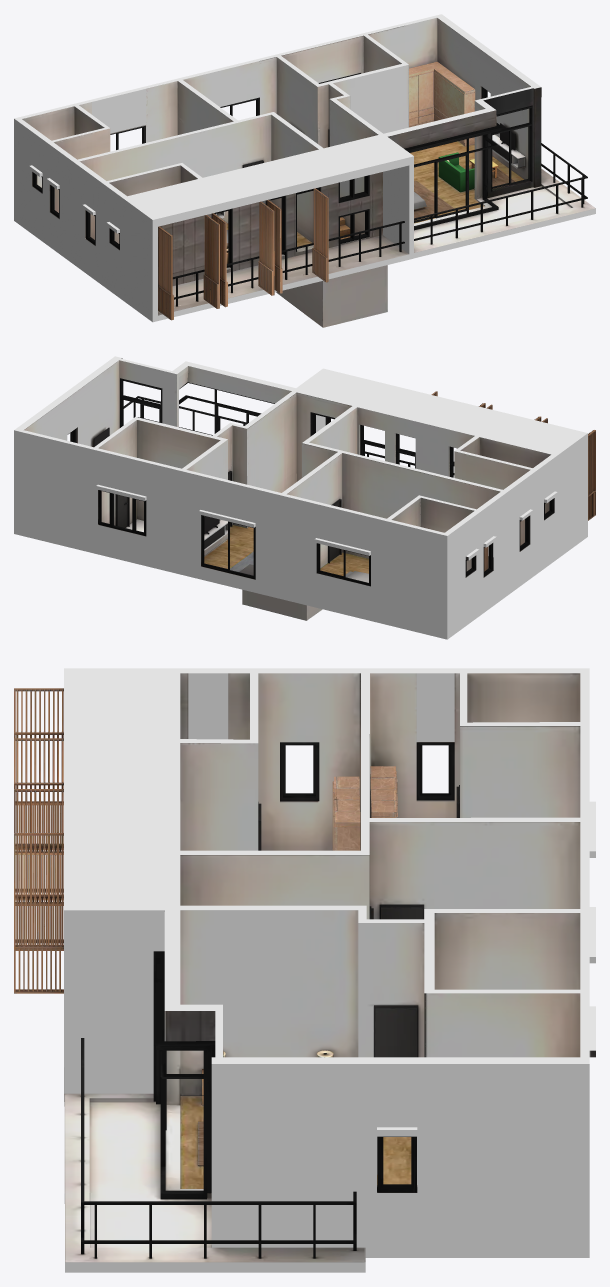
The model's file is 20220624_SCASSET_SH2510_2ndFloorBaked_v04.gltf.
3 renders of one model, top to bottom at view 1: azimuth 30°, elevation 25°; view 2: azimuth 150°, elevation 25°; view 3: azimuth 270°, elevation 25°, orthographic. The views are drawn at different scales.
Visible parts, largest first — view 1: polySurface2, Plane.006, Cube.145, Wood_mat3, pCube86, pCube100, brown4, Wood_mat13; view 2: polySurface2, Plane.006, pCube86, Cube.145, pCube125, Wood_mat13; view 3: polySurface2, Cube.145, Plane.006, Wood_mat3, pCube125, pCube86.
Boxes of the visible parts, <box> form: polySurface2: <box>14,14,595,327</box>; Plane.006: <box>32,73,587,306</box>; Cube.145: <box>158,188,328,320</box>; Wood_mat3: <box>409,61,475,145</box>; pCube86: <box>226,141,523,246</box>; pCube100: <box>414,167,514,218</box>; brown4: <box>438,152,474,192</box>; Wood_mat13: <box>216,134,525,218</box>; polySurface2: <box>14,356,587,639</box>; Plane.006: <box>68,378,553,586</box>; pCube86: <box>126,519,368,575</box>; Cube.145: <box>431,391,595,520</box>; pCube125: <box>115,471,341,563</box>; Wood_mat13: <box>204,520,227,550</box>; polySurface2: <box>64,668,595,1272</box>; Cube.145: <box>14,688,63,993</box>; Plane.006: <box>81,742,454,1258</box>; Wood_mat3: <box>332,766,397,850</box>; pCube125: <box>258,785,459,1057</box>; pCube86: <box>180,1096,411,1188</box>.
Size of the model in its own units: 17.2 by 6.46 by 10.25.
Materials: 18 (16 with a texture image).
